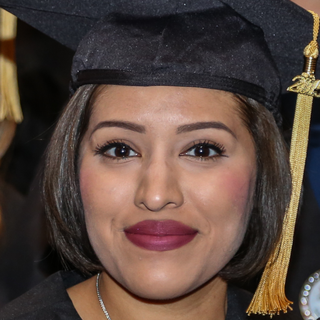eye: (176, 138, 228, 164), (94, 138, 143, 165)
